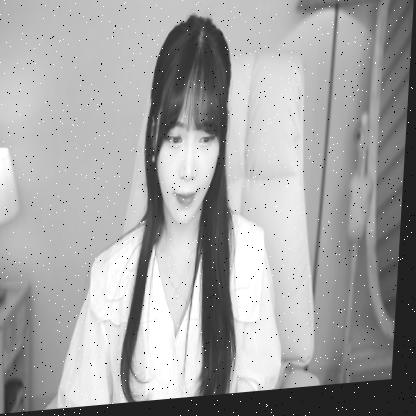streamer: (62, 11, 303, 410)
